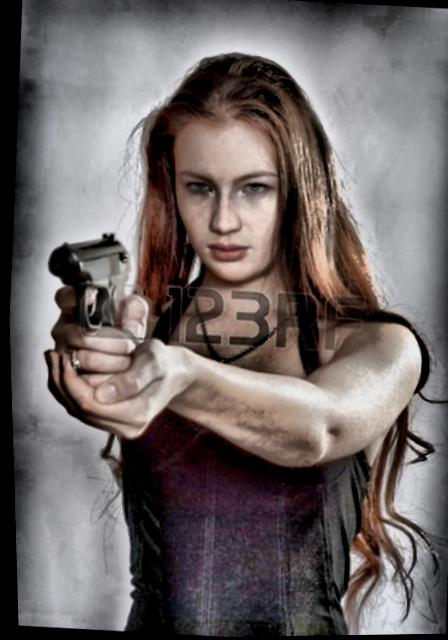pistol: (42, 226, 132, 335)
